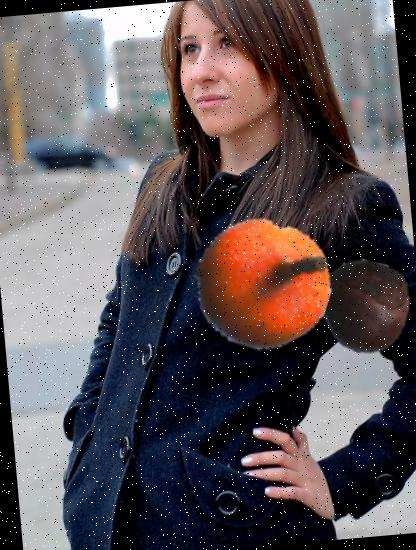Chestnut: (314, 256, 416, 358)
Granadilla: (190, 209, 336, 356)
